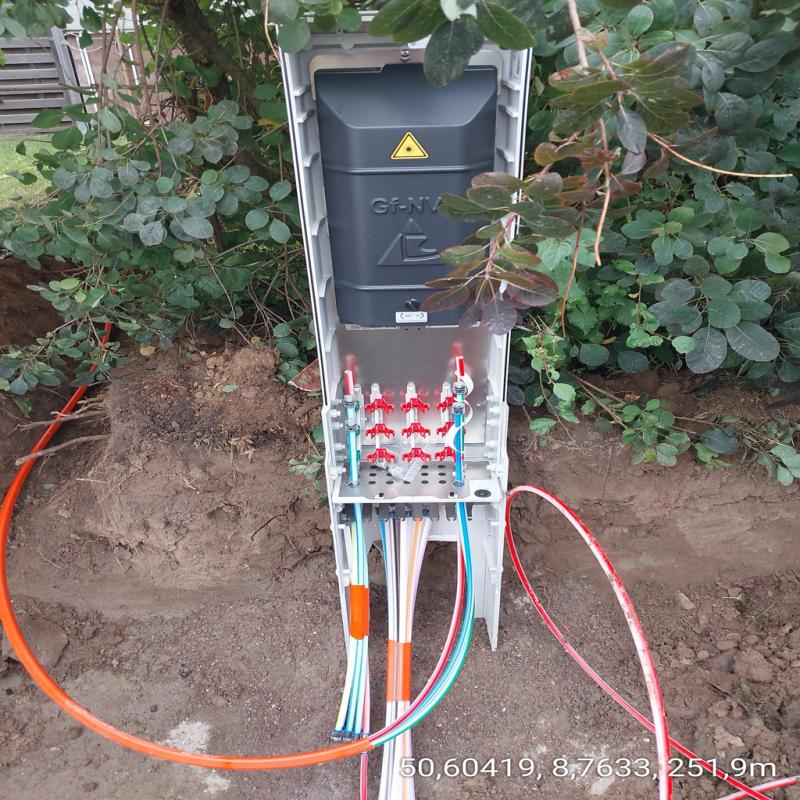NT-Gehause: (278, 43, 512, 549)
Orang-Speednetrohrchen: (1, 587, 446, 771)
